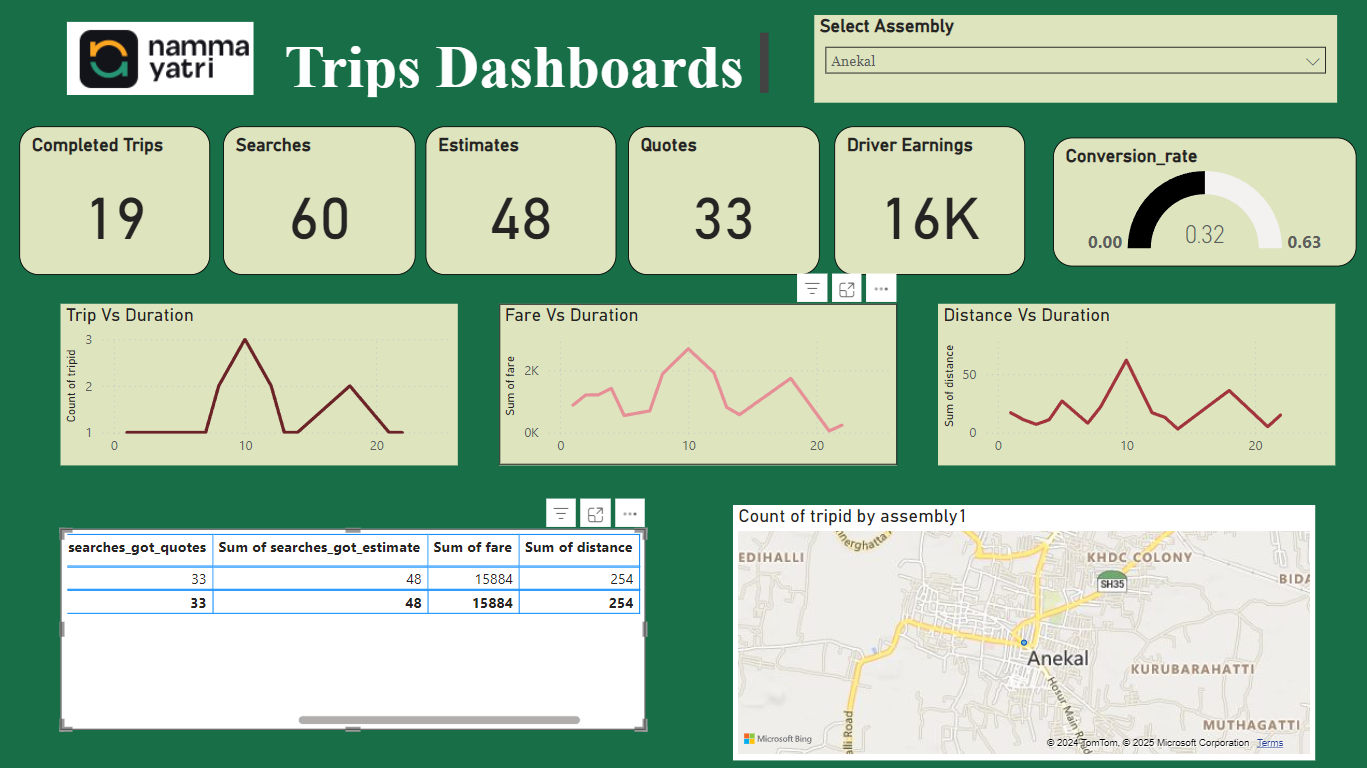

The dashboard page shown, as its layout file describes it:
{"tool":"powerbi","page":{"name":"Page 1","canvas":[1280,720],"ordinal":0},"visuals":[{"type":"card","title":"Completed Trips","fields":{"Values":["Sum(trip_details.end_ride)"]},"box":[20,117.5,177.5,138.8],"z":0},{"type":"card","title":"Quotes","fields":{"Values":["Sum(trip_details.searches_got_quotes)"]},"box":[586.2,117.5,178.8,138.8],"z":1000},{"type":"card","title":"Estimates","fields":{"Values":["Sum(trip_details.searches_got_estimate)"]},"box":[397.5,117.5,177.5,138.8],"z":2000},{"type":"card","title":"Searches","fields":{"Values":["Sum(trip_details.searches)"]},"box":[209.3,117.4,179.1,138.4],"z":3000},{"type":"card","title":"Driver Earnings","fields":{"Values":["Sum(trips.fare)"]},"box":[777.5,117.5,177.5,138.8],"z":4000},{"type":"gauge","fields":{"Y":["trip_details.Conversion_rate"]},"box":[981.2,127.5,282.5,120],"z":5000},{"type":"lineChart","title":"Trip Vs Duration","fields":{"Category":["trips.duration"],"Y":["CountNonNull(trips.tripid)"]},"box":[58.1,282.6,369.8,150],"z":6000},{"type":"lineChart","title":"Distance Vs Duration","fields":{"Category":["trips.duration"],"Y":["Sum(trips.distance)"]},"box":[874.4,282.6,369.8,150],"z":7000},{"type":"lineChart","title":"Fare Vs Duration","fields":{"Category":["trips.duration"],"Y":["Sum(trips.fare)"]},"box":[466.3,282.6,369.8,150],"z":8000},{"type":"tableEx","fields":{"Values":["loc.assembly1","Sum(trip_details.searches)","Sum(trip_details.searchers_for_quotes)","Sum(trip_details.searches_got_quotes)","Sum(trip_details.searches_got_estimate)","Sum(trips.fare)","Sum(trips.distance)","trip_details.Conversion_rate"]},"box":[58.1,491.9,544.2,187.2],"z":9000},{"type":"map","fields":{"Category":["loc.assembly1"]},"box":[683.7,469.8,541.9,237.2],"z":9001},{"type":"image","box":[58.8,13.8,183.8,81.2],"z":9002},{"type":"textbox","box":[261.2,25,460,70],"z":9003},{"type":"slicer","title":"Select Assembly","fields":{"Values":["loc.assembly1"]},"box":[758.8,13.8,486.2,81.2],"z":9004}]}

Visuals, with their boxes in screenshot pixels (x1, y1, x2, y2), scaled from the page's 1280x720 canvas onto the 1367x768 screenshot:
"Completed Trips" card: {"left": 21, "top": 125, "right": 211, "bottom": 273}
"Quotes" card: {"left": 626, "top": 125, "right": 817, "bottom": 273}
"Estimates" card: {"left": 425, "top": 125, "right": 614, "bottom": 273}
"Searches" card: {"left": 224, "top": 125, "right": 415, "bottom": 273}
"Driver Earnings" card: {"left": 830, "top": 125, "right": 1020, "bottom": 273}
gauge - trip_details.Conversion_rate: {"left": 1048, "top": 136, "right": 1350, "bottom": 264}
"Trip Vs Duration" lineChart: {"left": 62, "top": 301, "right": 457, "bottom": 461}
"Distance Vs Duration" lineChart: {"left": 934, "top": 301, "right": 1329, "bottom": 461}
"Fare Vs Duration" lineChart: {"left": 498, "top": 301, "right": 893, "bottom": 461}
tableEx - loc.assembly1 x Sum(trip_details.searches): {"left": 62, "top": 525, "right": 643, "bottom": 724}
map - loc.assembly1: {"left": 730, "top": 501, "right": 1309, "bottom": 754}
image: {"left": 63, "top": 15, "right": 259, "bottom": 101}
textbox: {"left": 279, "top": 27, "right": 770, "bottom": 101}
"Select Assembly" slicer: {"left": 810, "top": 15, "right": 1330, "bottom": 101}
